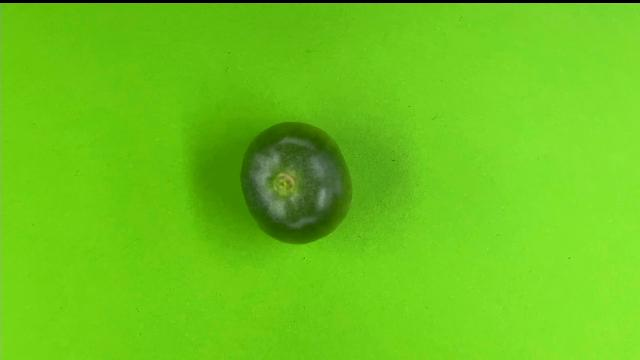Fruit Maturation: (240, 121, 354, 245)
